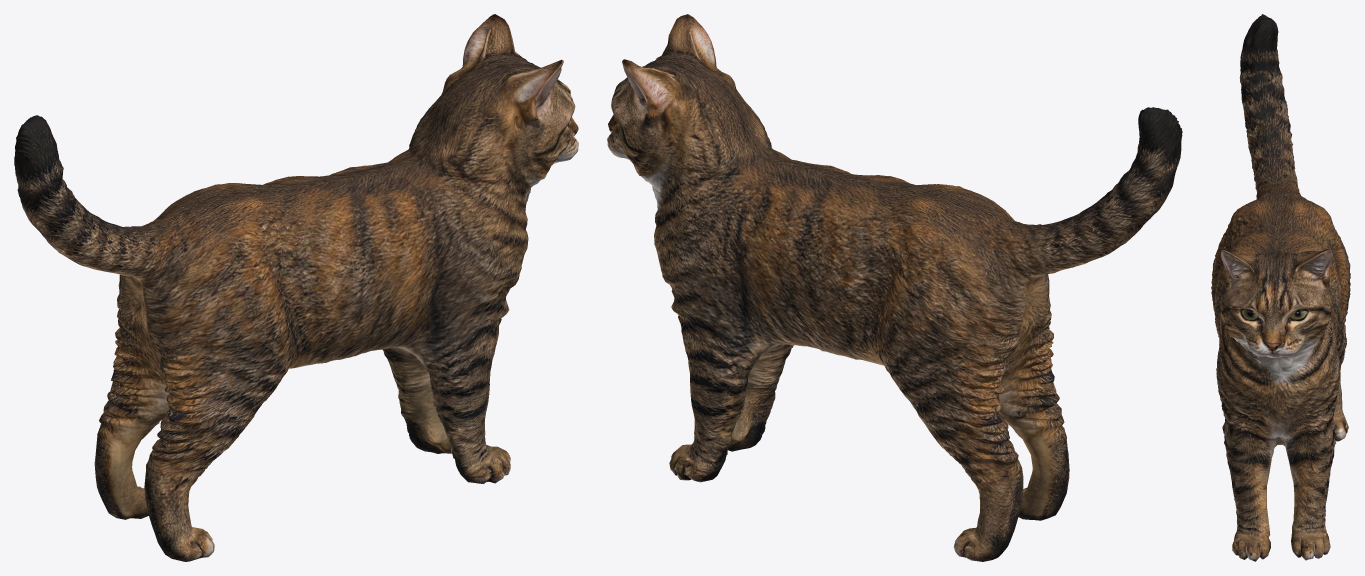
Rendered from DREAMPATCH.glb.
3 views of the same model, side by side, from view 1: azimuth 30°, elevation 25°; view 2: azimuth 150°, elevation 25°; view 3: azimuth 270°, elevation 25° (orthographic). The views are drawn at different scales.
Visible parts, largest first — view 1: tripo_node_05c58a4c-5ed2-486e-bd88-3d7cb77b3fb6; view 2: tripo_node_05c58a4c-5ed2-486e-bd88-3d7cb77b3fb6; view 3: tripo_node_05c58a4c-5ed2-486e-bd88-3d7cb77b3fb6.
Part boxes in pixels (x1,y1,x2,y2): tripo_node_05c58a4c-5ed2-486e-bd88-3d7cb77b3fb6: (14,14,578,561); tripo_node_05c58a4c-5ed2-486e-bd88-3d7cb77b3fb6: (607,14,1182,561); tripo_node_05c58a4c-5ed2-486e-bd88-3d7cb77b3fb6: (1211,14,1350,561).
Size of the model in its own units: 1.3 by 0.9991 by 0.3467.
1 material, 1 textured.
